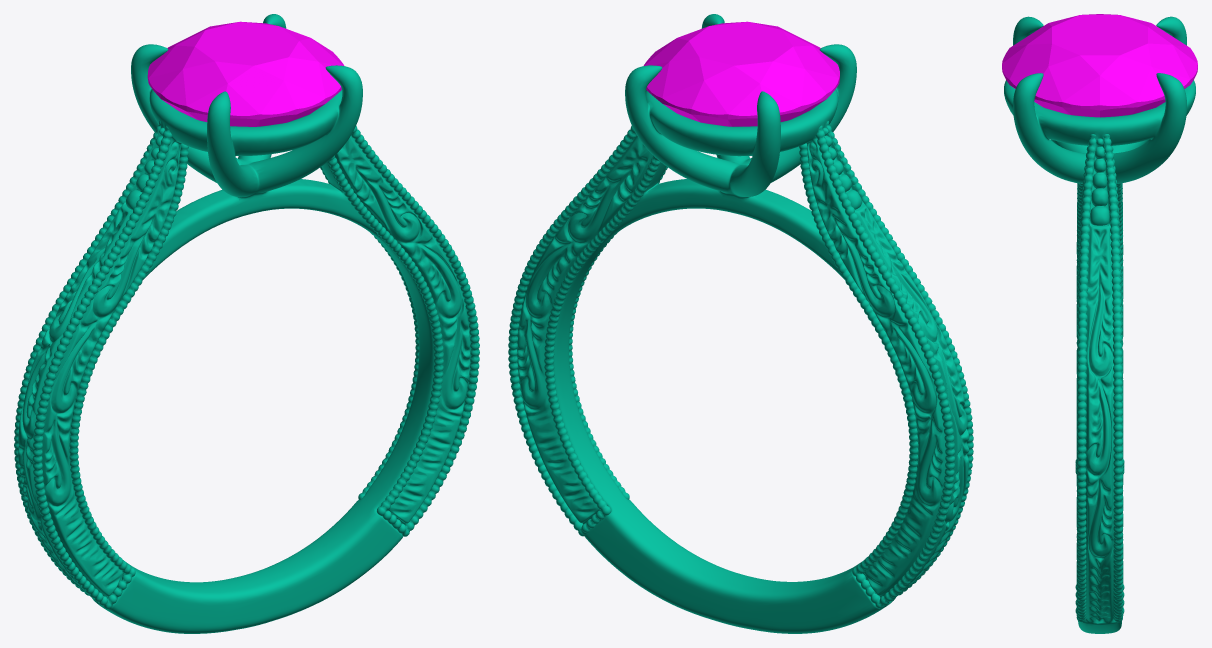
The model's file is BE1342_RD_200ct_RENDER.glb.
3 renders of one model, left to right at view 1: azimuth 30°, elevation 25°; view 2: azimuth 150°, elevation 25°; view 3: azimuth 270°, elevation 25°, orthographic.
Parts seen in each view (by area): view 1: Metal 01, CS_Diamond_Round; view 2: Metal 01, CS_Diamond_Round; view 3: Metal 01, CS_Diamond_Round.
Part boxes in pixels (bbox=[...]): Metal 01: bbox=[14, 14, 479, 633]; CS_Diamond_Round: bbox=[147, 21, 344, 126]; Metal 01: bbox=[508, 14, 973, 633]; CS_Diamond_Round: bbox=[643, 21, 839, 126]; Metal 01: bbox=[1004, 16, 1195, 633]; CS_Diamond_Round: bbox=[1002, 14, 1197, 117].
Size of the model in its own units: 20.82 by 25.75 by 8.
